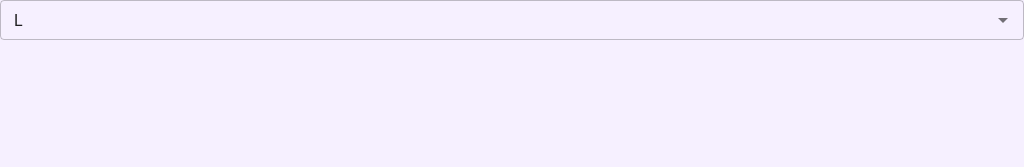
Scenario: UnitPicker › searches by abbreviation without allowing units outside the category
Replace the text in the dropdown with "fl oz": (496, 20) [6, 6, 985, 34]
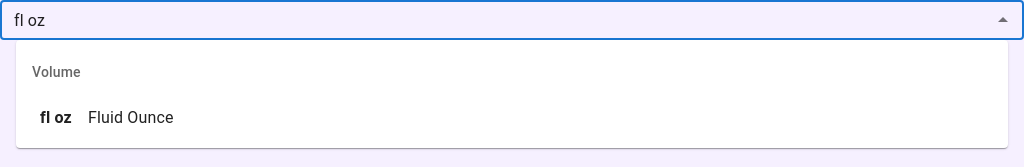
Expected: the option "fl oz Fluid Ounce" is shown, [40, 108, 174, 127]
Replace the text in the dropdown with "kilogram": (496, 20) [6, 6, 985, 34]
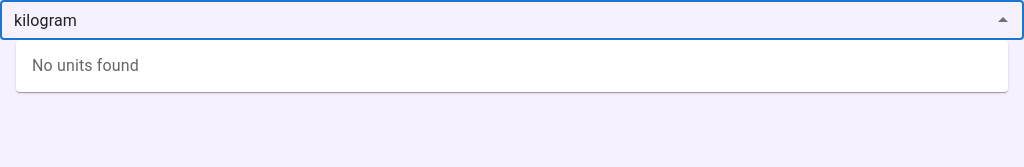
Expected: the option is gone
